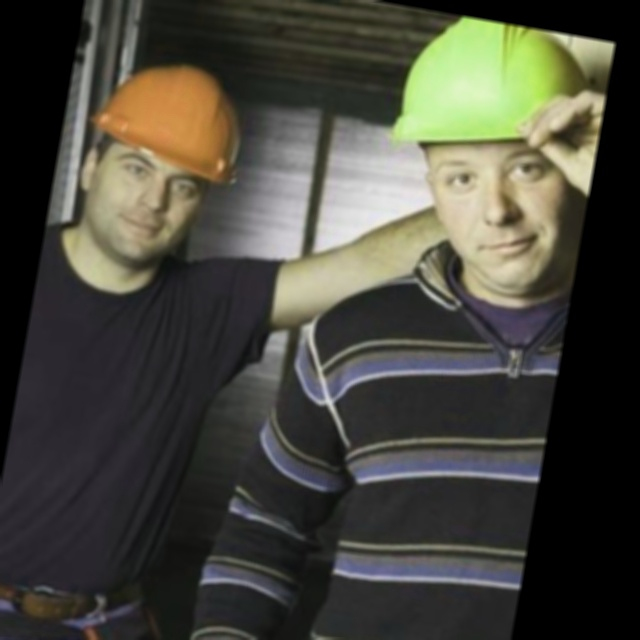Con_Casco: (369, 8, 615, 295), (79, 54, 253, 253)
Sin_Chaleco: (245, 261, 570, 640), (0, 226, 232, 613)
